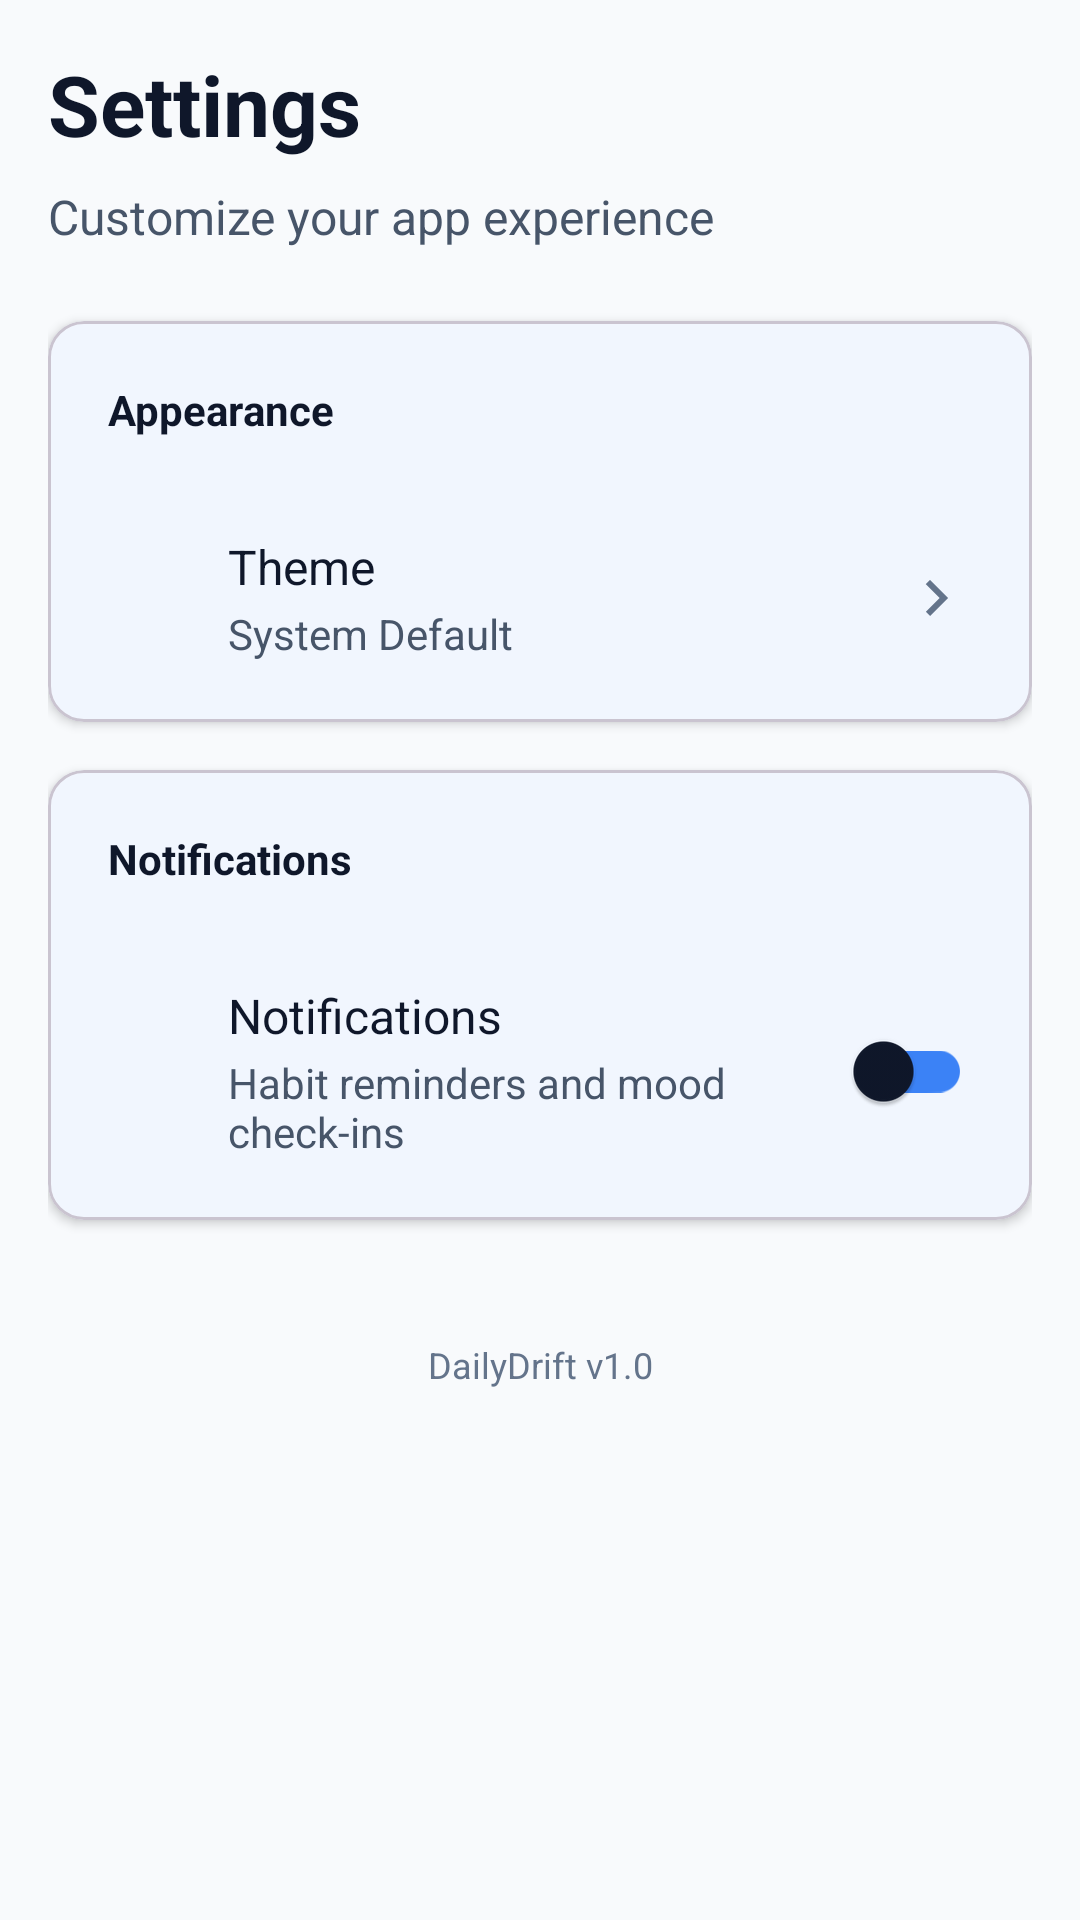

Locate icon controls on the screen. Image size 1080 × 1920, boxes as (x1, y1, x2, y2).
chevron right: (926, 580, 948, 616)
